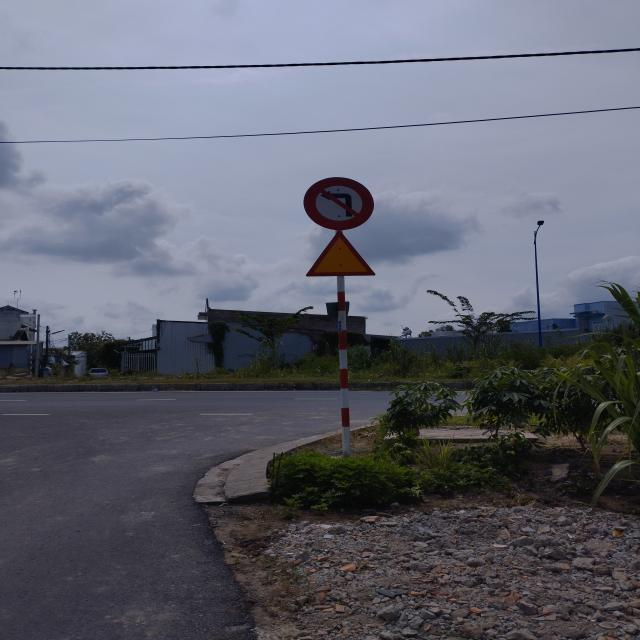Cam_Re_Trai: (303, 177, 377, 230)
Gioi_Han_Toc_Do_25: (306, 230, 376, 277)
